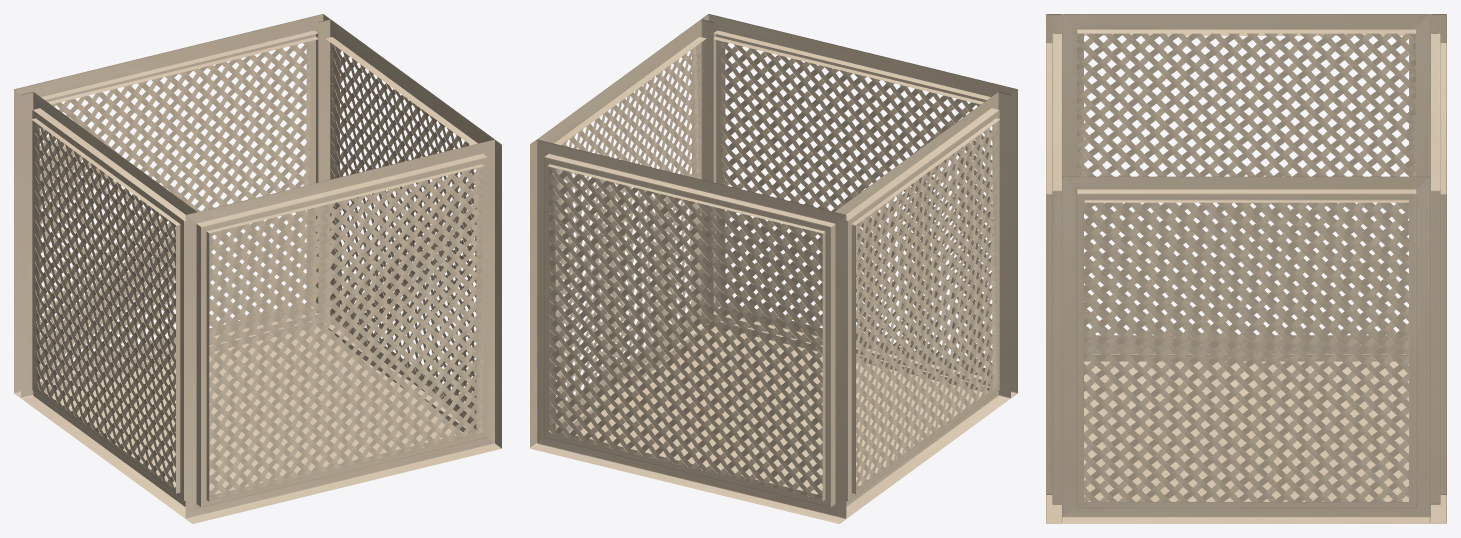
The model's file is valtning_pojemnik_80589005.glb.
3 renders of one model, left to right at view 1: azimuth 30°, elevation 25°; view 2: azimuth 150°, elevation 25°; view 3: azimuth 270°, elevation 25°, orthographic. The views are drawn at different scales.
Visible parts, largest first — view 1: valtning_pojemnik_80589005; view 2: valtning_pojemnik_80589005; view 3: valtning_pojemnik_80589005.
Boxes of the visible parts, bbox=[...] form: valtning_pojemnik_80589005: bbox=[14, 14, 501, 523]; valtning_pojemnik_80589005: bbox=[530, 14, 1017, 523]; valtning_pojemnik_80589005: bbox=[1046, 14, 1446, 523].
Bounding box in the file's own units: 0.33 × 0.31 × 0.33.
Materials: 1 (1 with a texture image).
